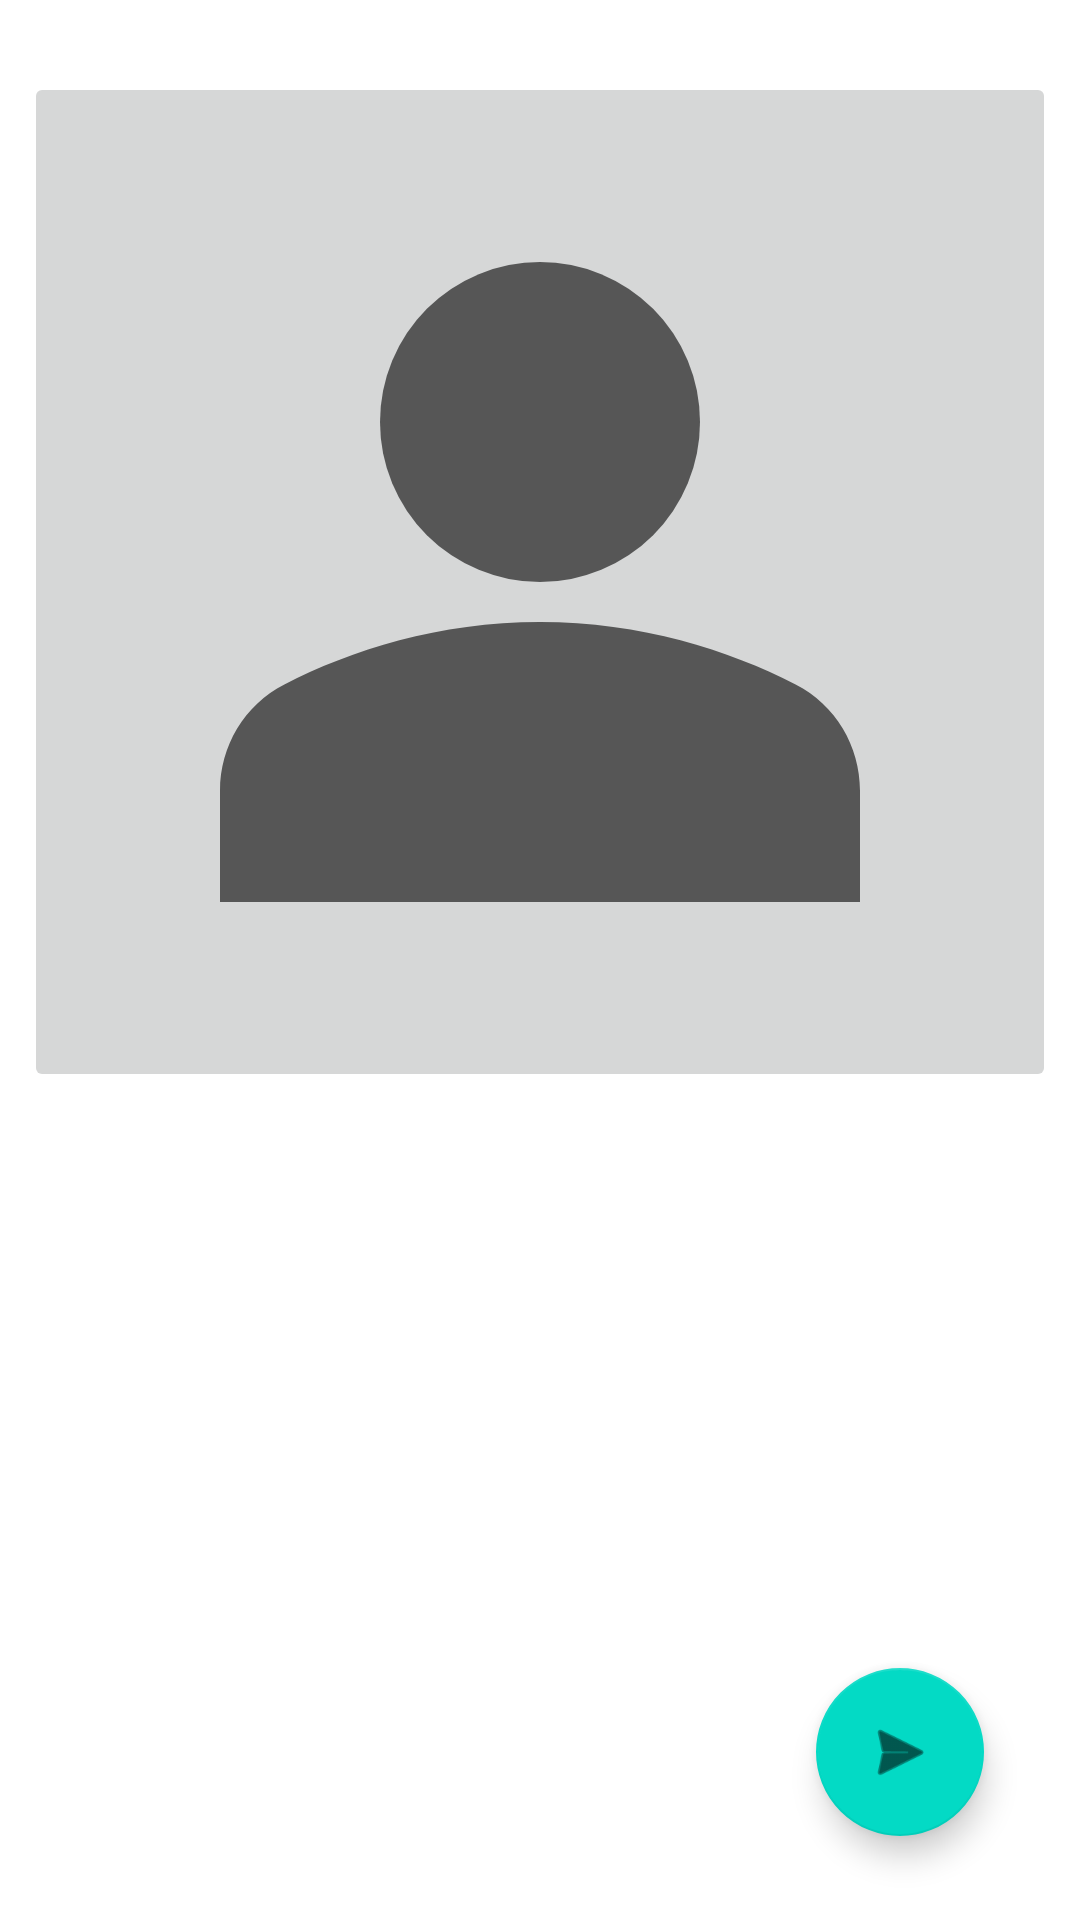

Screen size 1080x1920. Icon name, then its center in pixels as point (x, y):
send: point (900, 1752)
